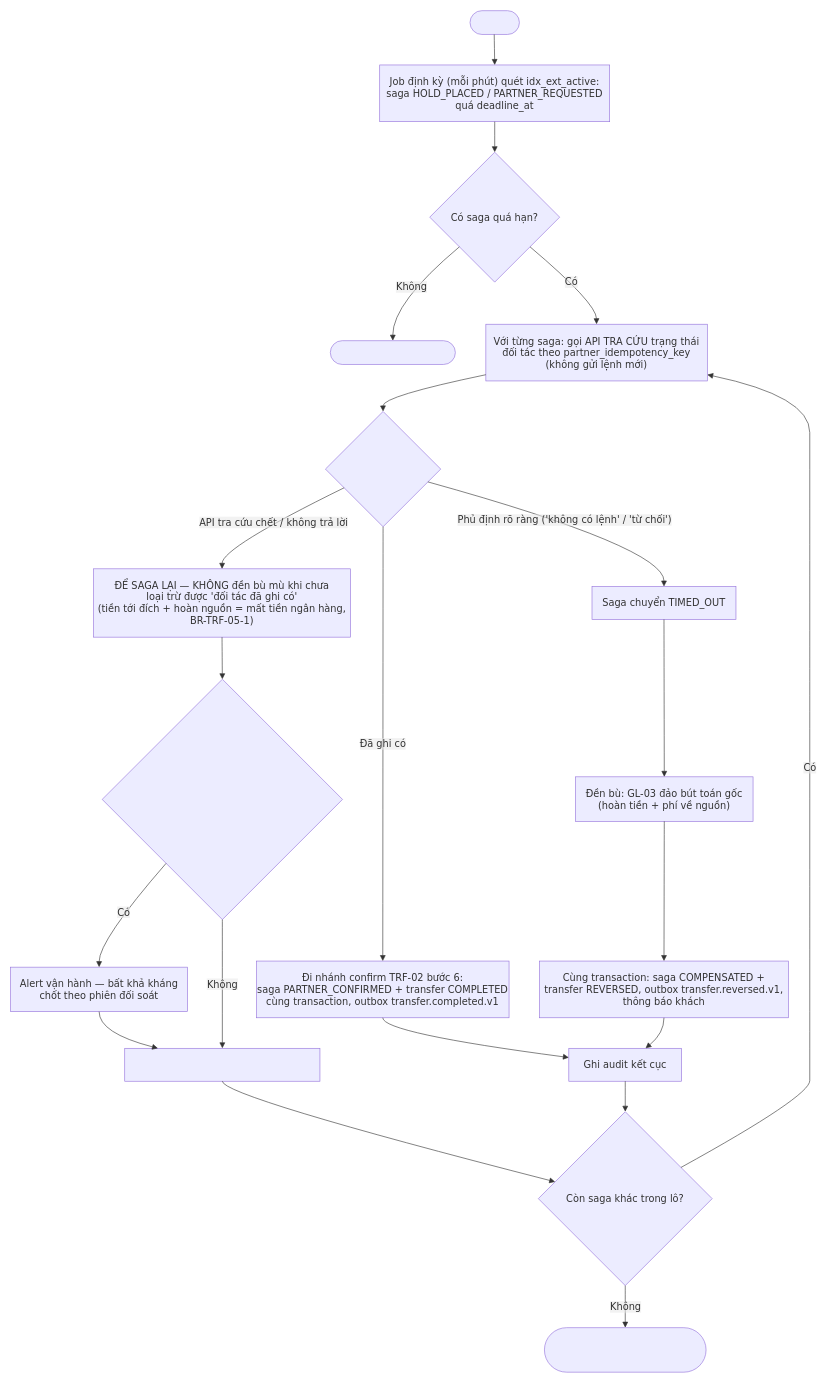
Some shapes in this 827 by 1384 pixel diagram are drawn without their labels. Each missing label, with the centre of its shape:
"Bắt đầu" belongs at (x=494, y=22).
"Bỏ qua lần này, job lần sau thử tiếp" belongs at (x=222, y=1064).
"Kết thúc — không có việc" belongs at (x=392, y=352).
"Kết thúc — lô đã xử lý (job idempotent: saga đã kết cục bị bỏ qua — BR-TRF-05-2)" belongs at (x=625, y=1349).
"Tuổi saga vượt ngưỡng leo thang (mặc định 1 giờ)?" belongs at (x=222, y=799).
"Đối tác trả lời?" belongs at (x=383, y=469).
